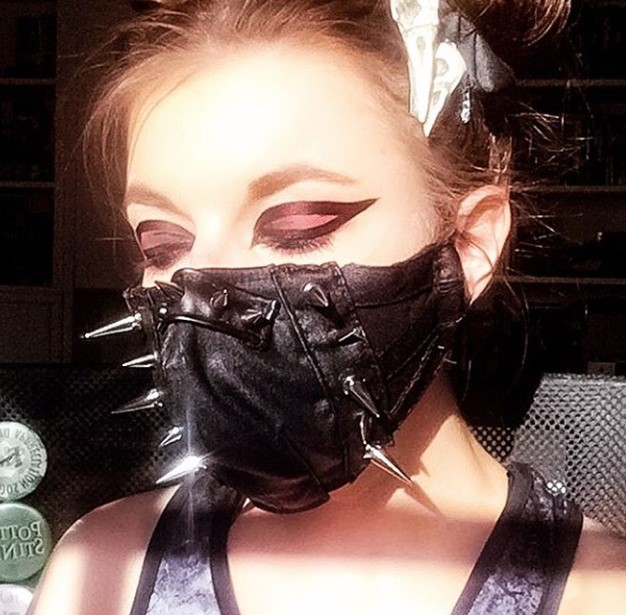face_with_mask: (87, 2, 515, 519)
